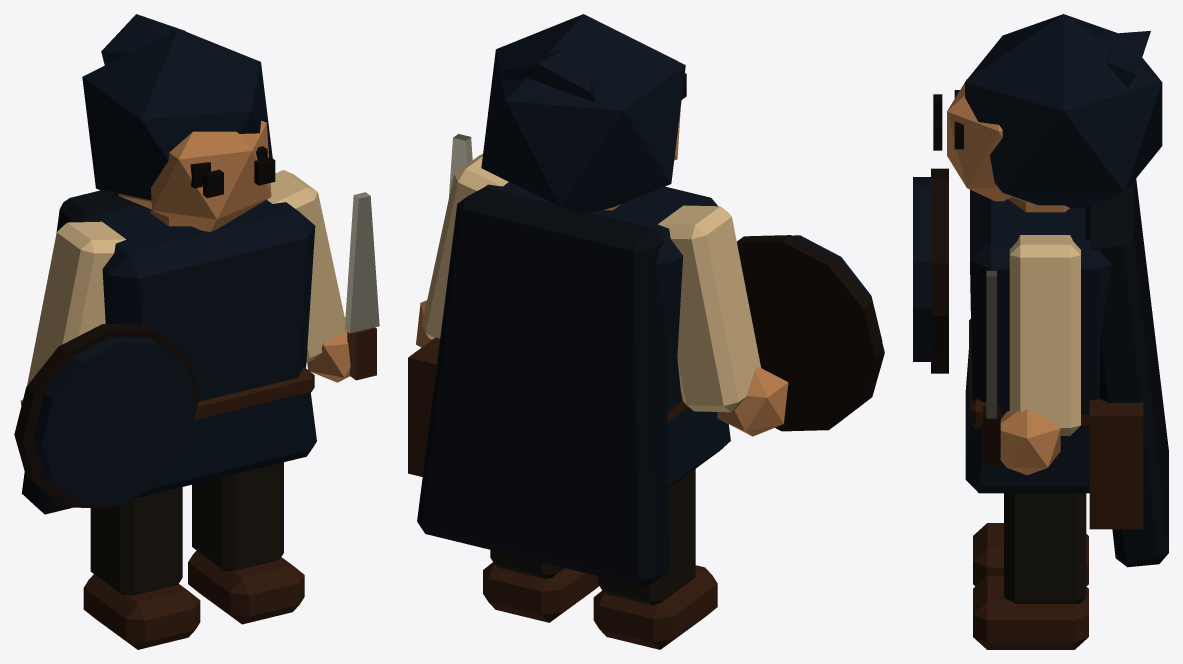
The model's file is scout.obj.
3 views of the same model, side by side, from view 1: azimuth 30°, elevation 25°; view 2: azimuth 150°, elevation 25°; view 3: azimuth 270°, elevation 25° (orthographic). The views are drawn at different scales.
Parts seen in each view (by area): view 1: body, tool; view 2: body, tool; view 3: body, tool.
Part boxes in pixels (box(x1,y1,x2,y2)): body: box(14, 14, 350, 649); tool: box(344, 192, 379, 380); body: box(408, 14, 884, 649); tool: box(448, 134, 472, 198); body: box(913, 14, 1168, 649); tool: box(982, 270, 1000, 464).
Bounding box in the file's own units: 0.262 × 0.369 × 0.1433.
